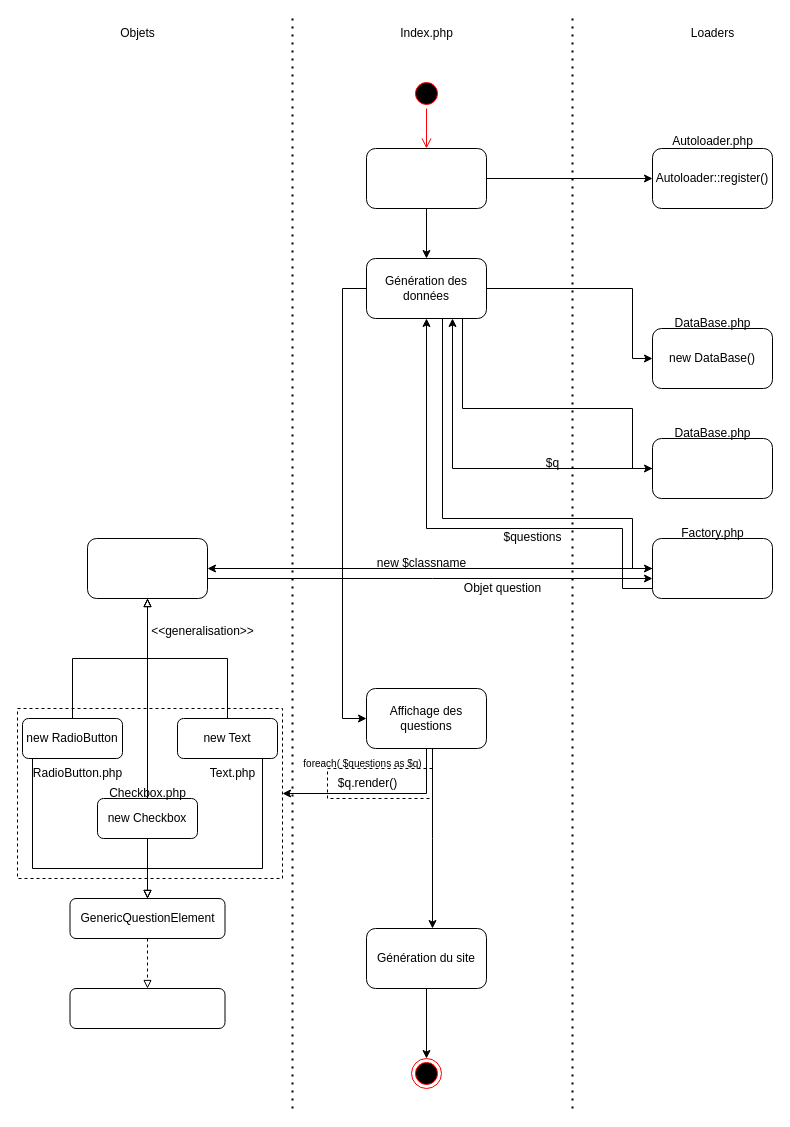
The diagram is 790 pixels wide and 1127 high, and some of its shapes have lost their labels. Here are the shapes that lost their labels. From the top down, the centre of each, then its label:
(426,178): Création de l'autoloader
(712,468): database.load()
(147,568): Création des questions
(712,568): Factory::createQuestions($q)
(147,1008): QuestionRenderInterface
